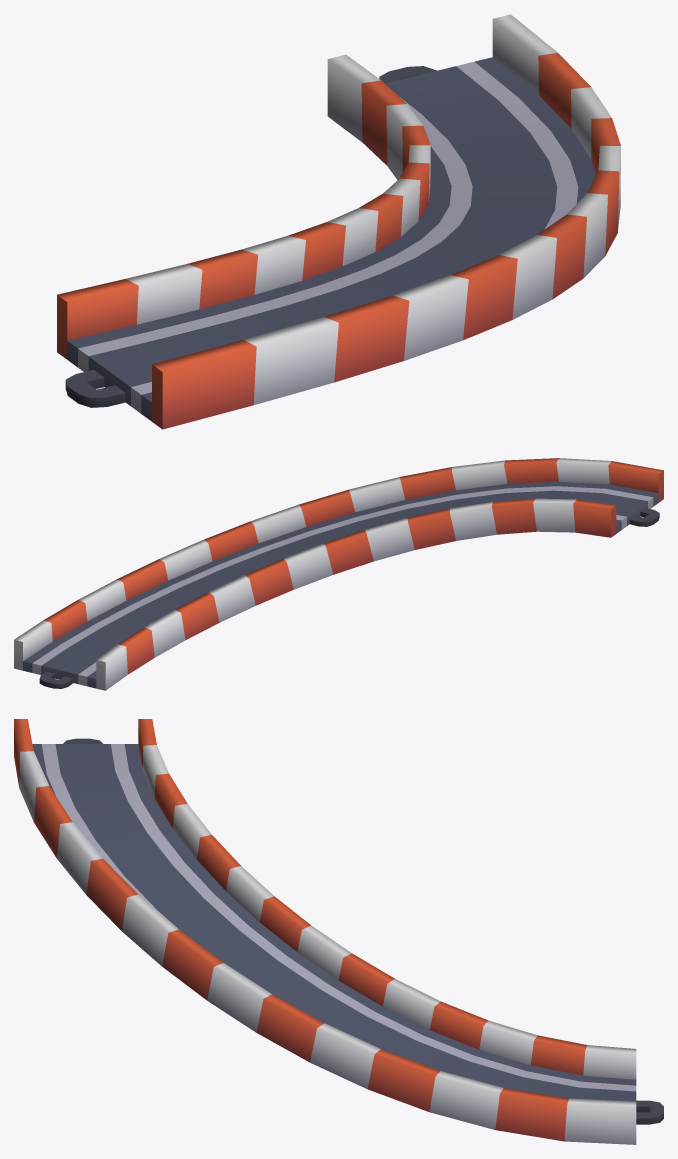
File: track-road-narrow-corner-large-ramp.glb
The picture shows the model from 3 angles, top to bottom: view 1: azimuth 30°, elevation 25°; view 2: azimuth 150°, elevation 25°; view 3: azimuth 270°, elevation 25°; orthographic projection. The views are drawn at different scales.
Parts seen in each view (by area): view 1: track-road-narrow-corner-large-ramp; view 2: track-road-narrow-corner-large-ramp; view 3: track-road-narrow-corner-large-ramp.
Part boxes in pixels (box(x1,y1,x2,y2)): track-road-narrow-corner-large-ramp: box(57, 14, 620, 429); track-road-narrow-corner-large-ramp: box(14, 458, 663, 690); track-road-narrow-corner-large-ramp: box(14, 719, 663, 1144).
Size of the model in its own units: 4.7 by 1.3 by 4.7.
